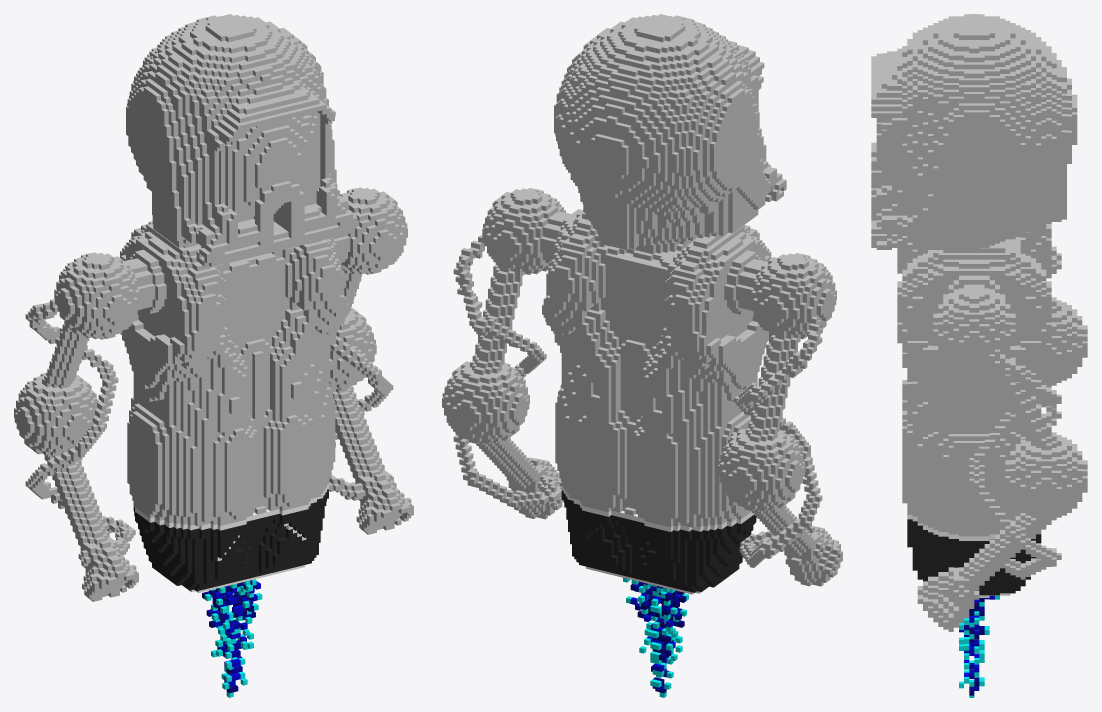
The model's file is fisk.fbx.
3 views of the same model, side by side, from view 1: azimuth 30°, elevation 25°; view 2: azimuth 150°, elevation 25°; view 3: azimuth 270°, elevation 25° (orthographic).
Parts seen in each view (by area): view 1: fisk-4; view 2: fisk-4; view 3: fisk-4.
Part boxes in pixels (x1,y1,x2,y2): fisk-4: [14, 14, 413, 697]; fisk-4: [442, 14, 842, 697]; fisk-4: [871, 14, 1087, 697].
Size of the model in its own units: 80 by 144 by 42.
